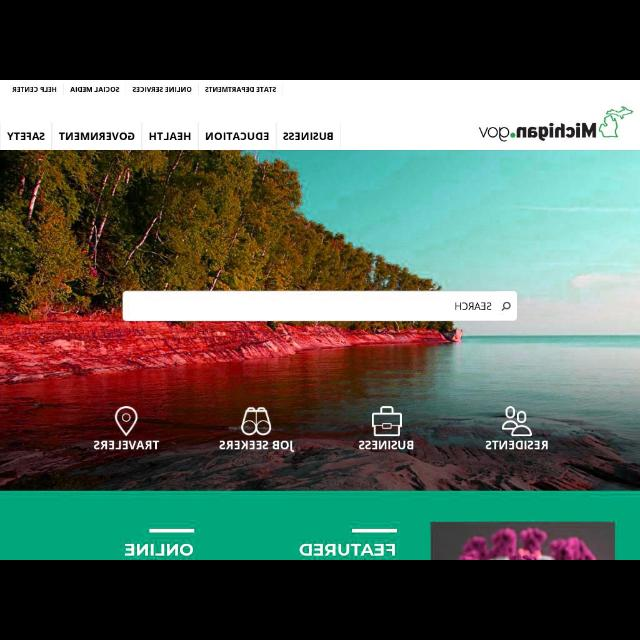backgroundimage: (0, 152, 638, 488)
icon: (240, 402, 272, 438), (370, 406, 404, 436), (502, 404, 530, 434), (113, 406, 139, 434), (501, 300, 513, 314)
image: (476, 109, 632, 143)
input: (125, 292, 515, 321)
text: (296, 541, 396, 557), (121, 540, 199, 556), (481, 438, 549, 452), (219, 440, 297, 452), (280, 127, 334, 143), (204, 131, 272, 143), (91, 438, 157, 450), (360, 438, 414, 450), (133, 85, 193, 94), (68, 86, 120, 95), (58, 134, 136, 140), (204, 86, 276, 92), (151, 132, 191, 142), (9, 85, 56, 93), (453, 302, 493, 310), (8, 134, 44, 140)
toolbar: (0, 106, 638, 148), (0, 82, 638, 106)
